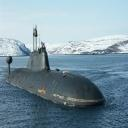submarine: (5, 25, 109, 111)
